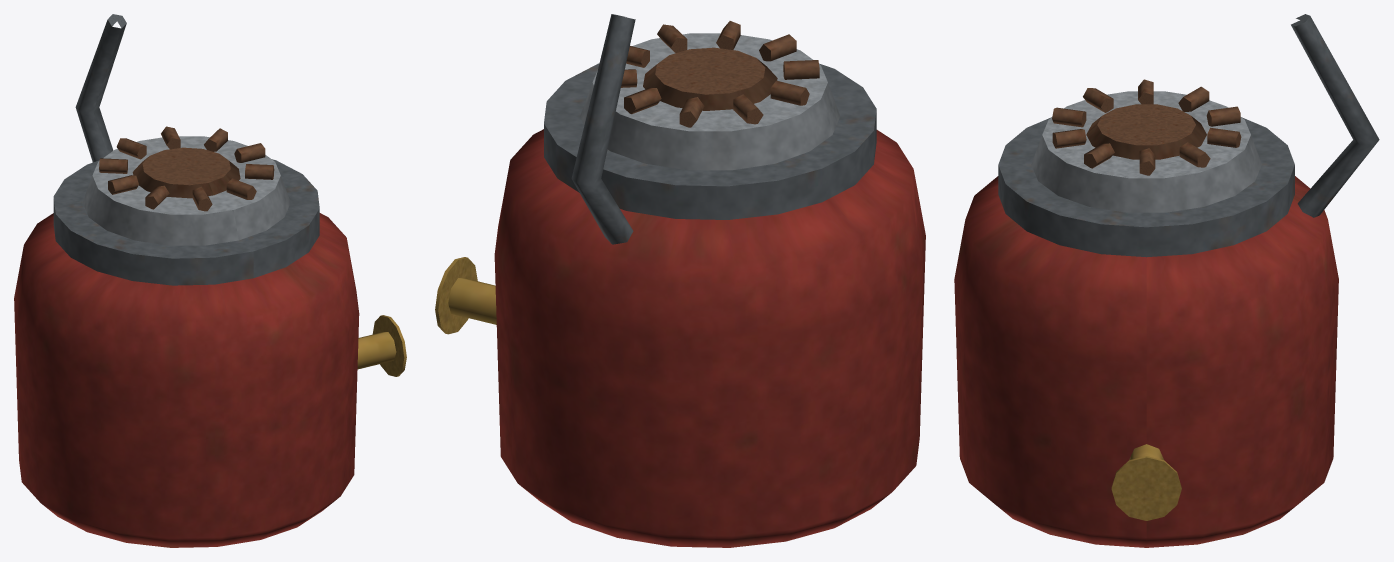
The model's file is prop.stove.glb.
3 views of the same model, side by side, from view 1: azimuth 30°, elevation 25°; view 2: azimuth 150°, elevation 25°; view 3: azimuth 270°, elevation 25° (orthographic). The views are drawn at different scales.
Visible parts, largest first — view 1: prop.stove; view 2: prop.stove; view 3: prop.stove.
Boxes of the visible parts, x1,y1,x2,y2 form: prop.stove: [14, 14, 406, 547]; prop.stove: [435, 14, 925, 547]; prop.stove: [954, 14, 1379, 547].
Size of the model in its own units: 0.413 by 0.4645 by 0.387.
5 materials, 5 textured.
